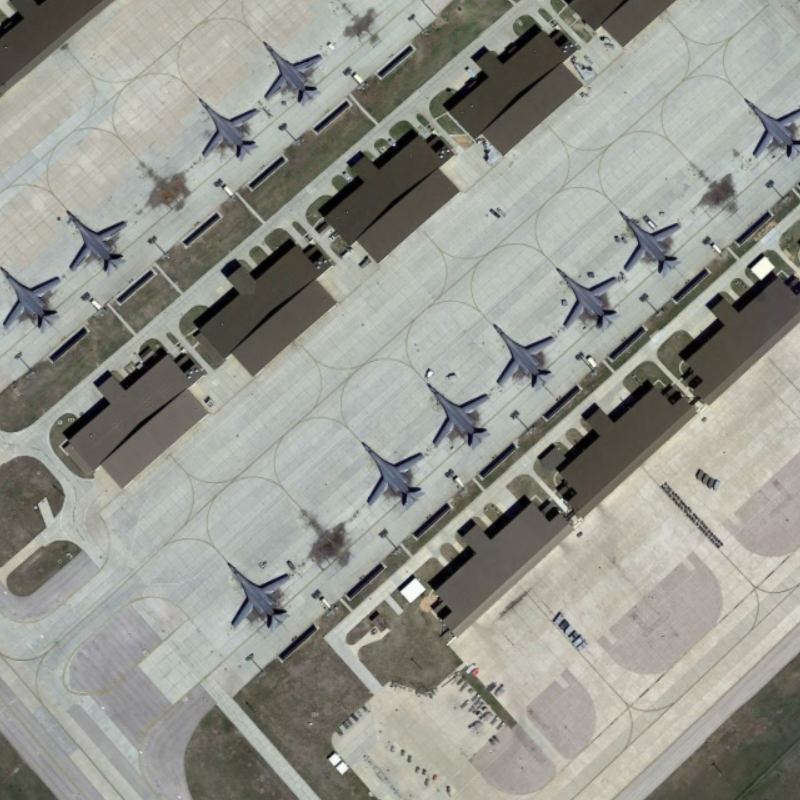A10: (224, 558, 295, 633), (487, 319, 559, 392), (615, 205, 686, 278), (357, 439, 427, 512), (553, 260, 623, 332), (257, 33, 325, 107), (424, 378, 493, 450), (194, 95, 264, 163), (63, 206, 129, 275), (1, 264, 64, 333), (740, 93, 800, 161)
